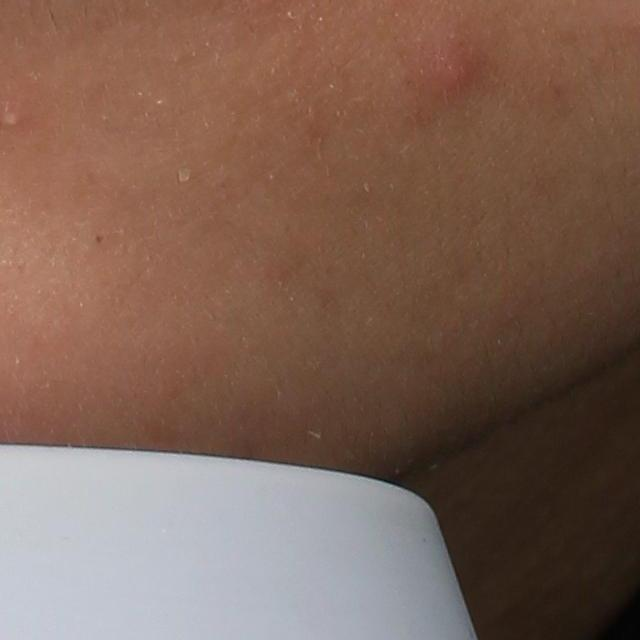papule: (418, 43, 478, 93)
